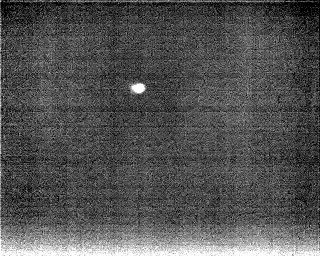AIRPLANE: (129, 81, 148, 96)
